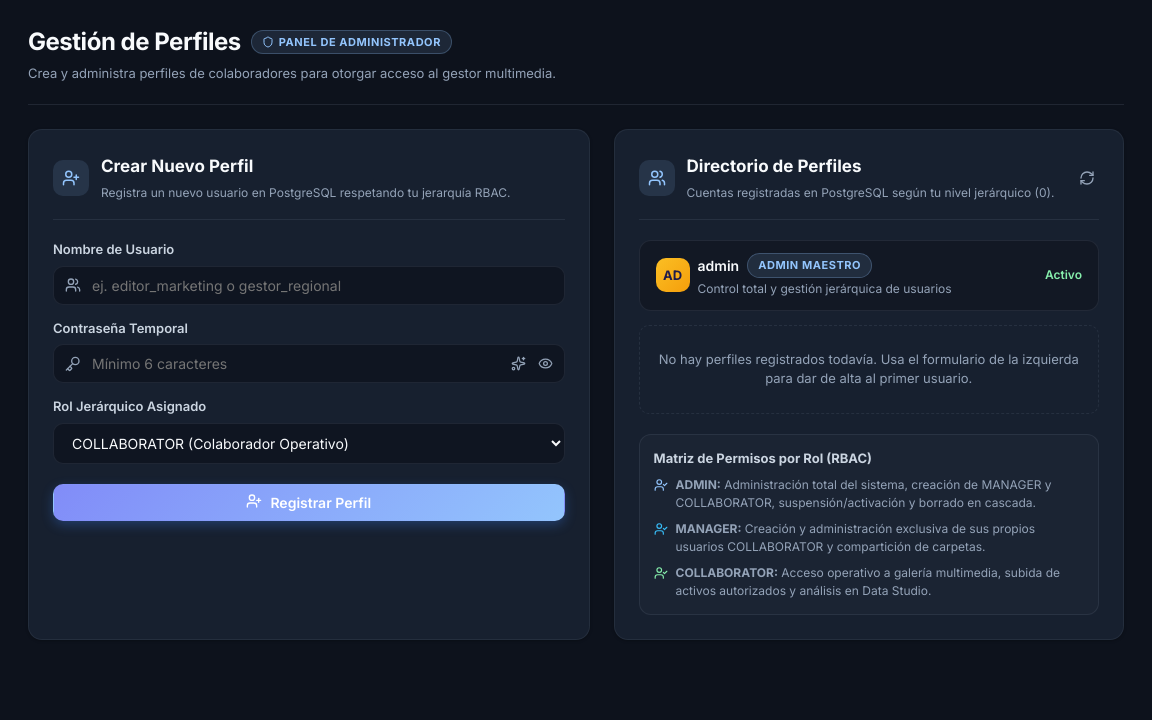
Test: UserProfilesView Component › validates minimum length for username and password
The width and height of the screenshot is (1152, 720).
Type "ab" into the field labelled "Nombre de Usuario".
click(309, 285); type("ab")  # box top-left (53, 266), bottom-right (564, 304)
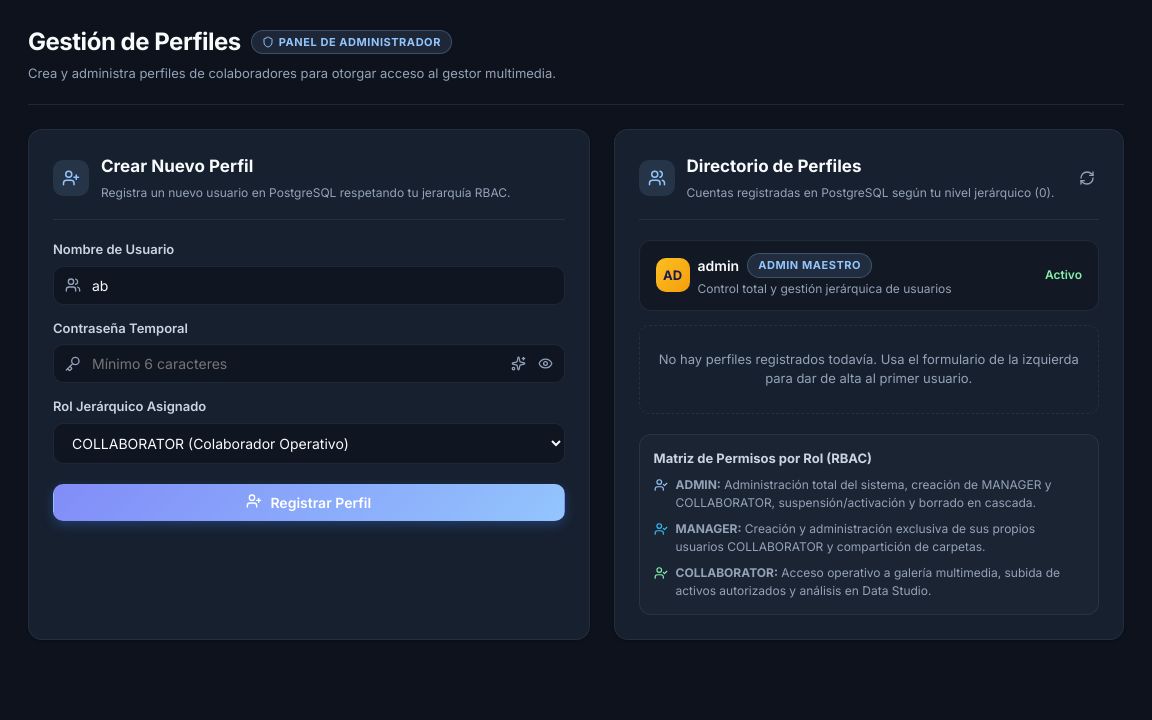
Type "123" into the password field labelled "Contraseña Temporal".
click(309, 364); type("123")  # box top-left (53, 344), bottom-right (564, 383)
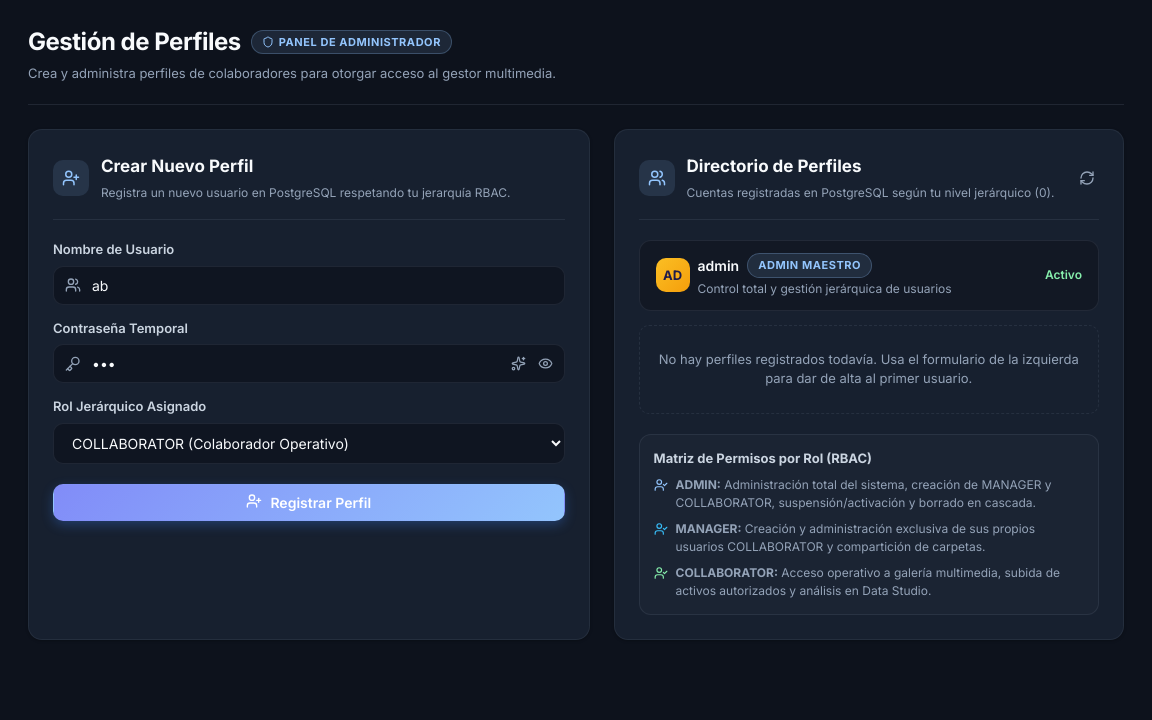
Click the button "Registrar Perfil".
click(309, 502)  # box top-left (53, 484), bottom-right (564, 520)
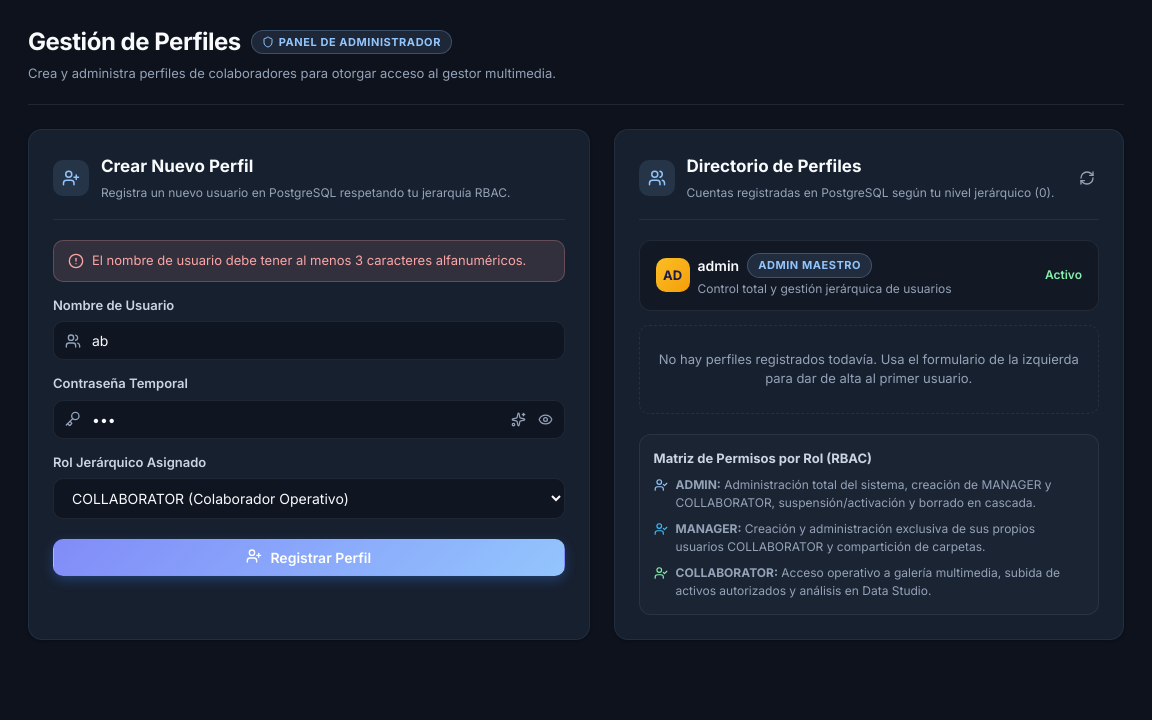
Expected: the message shows "al menos 3 caracteres", top-left (92, 252), bottom-right (526, 268)
